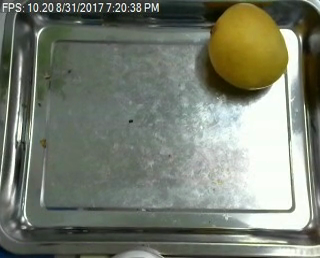Mango: (205, 2, 293, 92)
